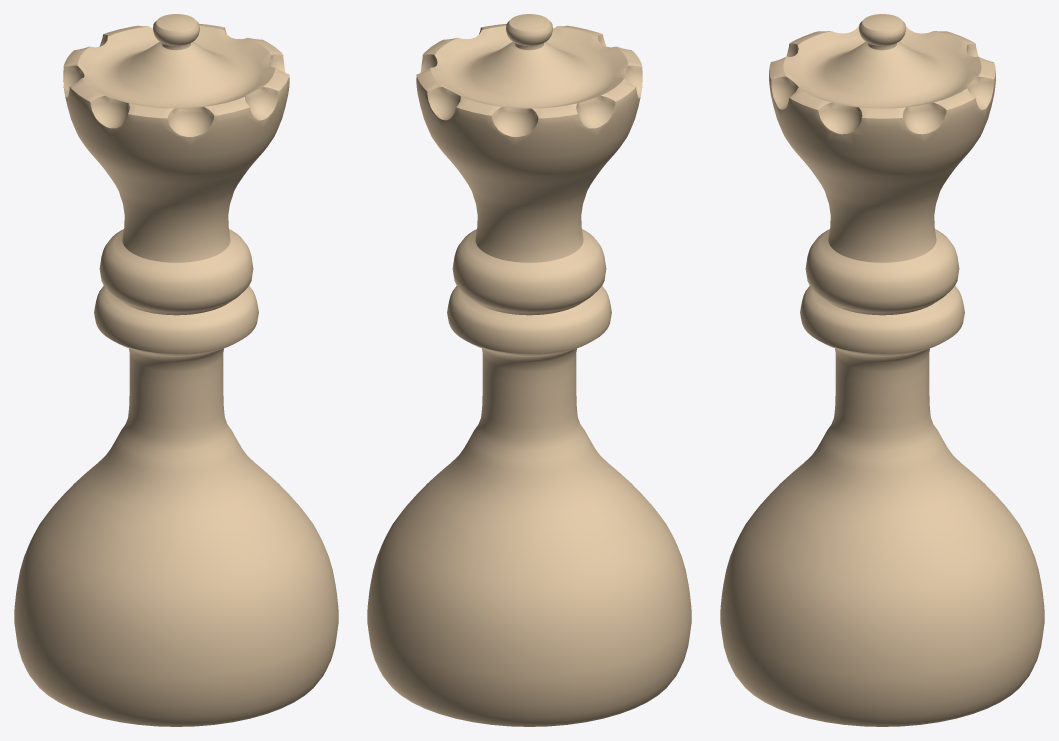
File: white-queen.glb
The picture shows the model from 3 angles, left to right: view 1: azimuth 30°, elevation 25°; view 2: azimuth 150°, elevation 25°; view 3: azimuth 270°, elevation 25°; orthographic projection.
Parts seen in each view (by area): view 1: white-queen.001; view 2: white-queen.001; view 3: white-queen.001.
Part boxes in pixels (x1=…): white-queen.001: x1=14, y1=14, x2=338, y2=726; white-queen.001: x1=367, y1=14, x2=691, y2=726; white-queen.001: x1=720, y1=14, x2=1044, y2=726.
Bounding box in the file's own units: 0.721 × 1.58 × 0.721.
